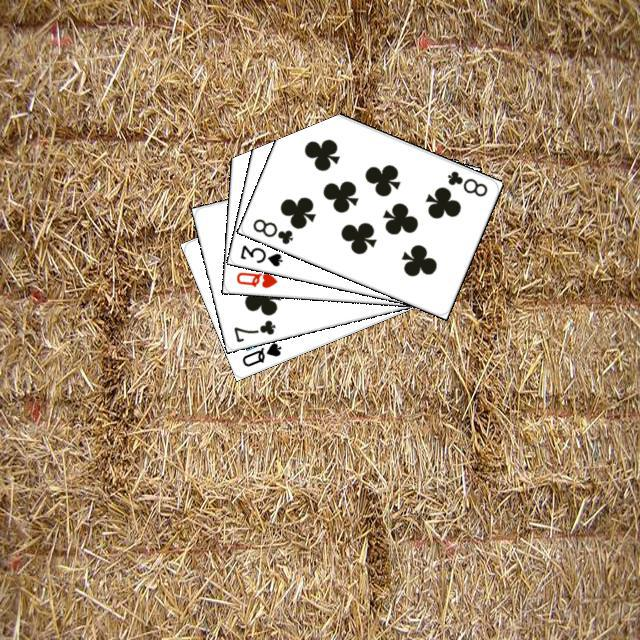3s: (235, 240, 284, 268)
7c: (229, 315, 277, 344)
8c: (442, 166, 489, 199), (248, 214, 295, 246)
Qh: (231, 267, 279, 290)
Qs: (237, 338, 283, 368)
